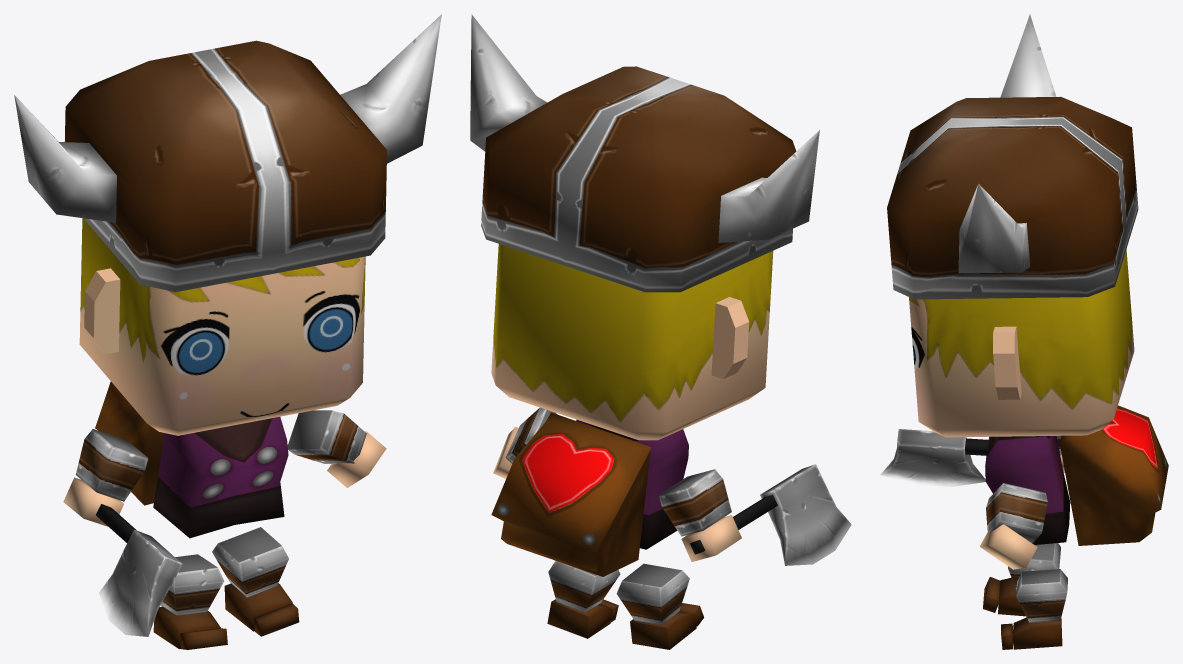
File: mini_knight_fem_000019.obj
The picture shows the model from 3 angles, left to right: view 1: azimuth 30°, elevation 25°; view 2: azimuth 150°, elevation 25°; view 3: azimuth 270°, elevation 25°; orthographic projection. The views are drawn at different scales.
Visible parts, largest first — view 1: cap_Object01, Mesh_objheadusOBJexport, axe_Object02, back_Object03; view 2: cap_Object01, Mesh_objheadusOBJexport, back_Object03, axe_Object02; view 3: cap_Object01, Mesh_objheadusOBJexport, back_Object03, axe_Object02.
Boxes of the visible parts, x1,y1,x2,y2 form: cap_Object01: (14,14,441,292); Mesh_objheadusOBJexport: (63,218,386,649); axe_Object02: (96,504,182,636); back_Object03: (95,381,163,505); cap_Object01: (470,14,819,292); Mesh_objheadusOBJexport: (491,244,773,649); back_Object03: (491,412,651,576); axe_Object02: (690,464,851,565); cap_Object01: (887,14,1138,299); Mesh_objheadusOBJexport: (909,249,1134,649); back_Object03: (1060,405,1168,545); axe_Object02: (880,429,988,486).
Bounding box in the file's own units: 1.83 × 2.59 × 1.29.
